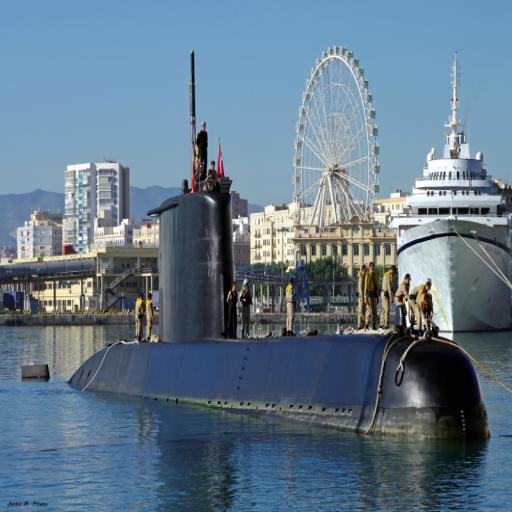submarine: (22, 45, 498, 443)
